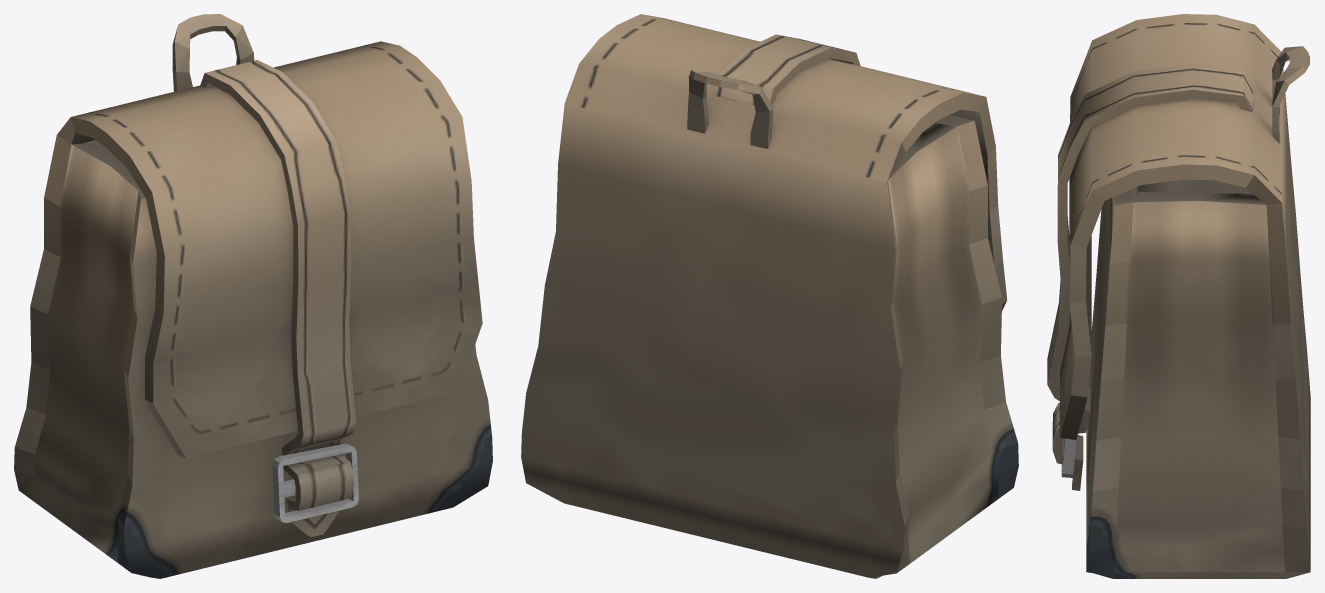
File: bag.fbx
3 views of the same model, side by side, from view 1: azimuth 30°, elevation 25°; view 2: azimuth 150°, elevation 25°; view 3: azimuth 270°, elevation 25° (orthographic). The views are drawn at different scales.
Parts seen in each view (by area): view 1: Cube.002; view 2: Cube.002; view 3: Cube.002.
Part boxes in pixels (x1,y1,x2,y2): Cube.002: (14,14,492,578); Cube.002: (521,14,1018,578); Cube.002: (1047,14,1310,578).
Bounding box in the file's own units: 202 × 239 × 126.
Materials: 1 (1 with a texture image).
